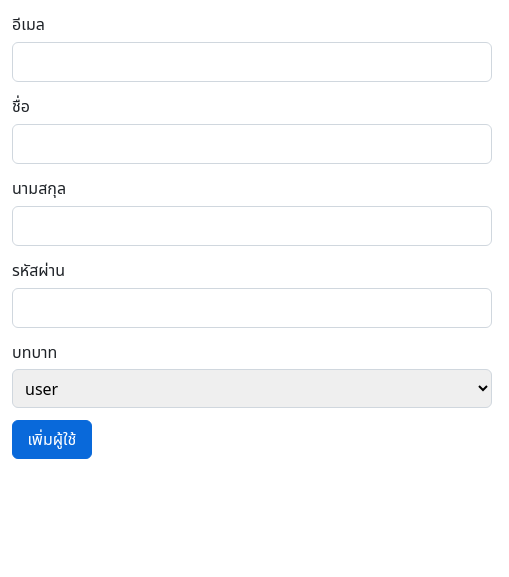
UserForm › ข้อมูลไม่ถูกต้อง: แสดง error และไม่ส่ง event create
Type "not-an-email" into the field labelled "อีเมล" at (252, 62), box [12,42,492,82]
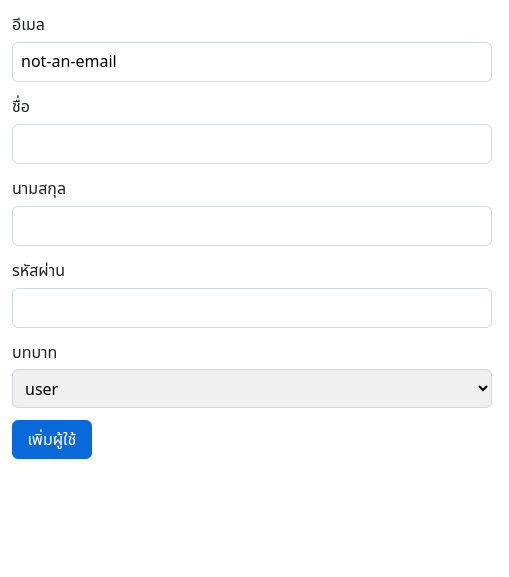
Submit the form
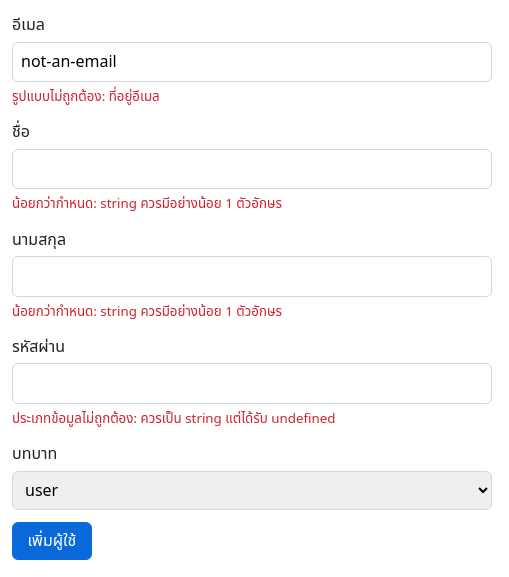
Expected: the 1st text with class "error" is shown, [12,87,160,105]
